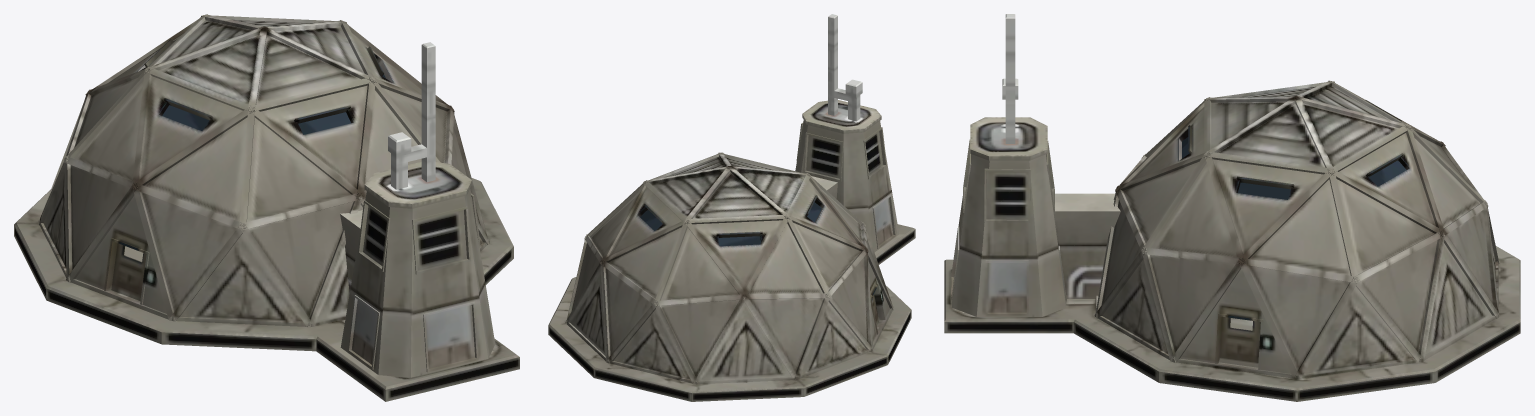
The model's file is geodesicdome_cad.glb.
3 renders of one model, left to right at view 1: azimuth 30°, elevation 25°; view 2: azimuth 150°, elevation 25°; view 3: azimuth 270°, elevation 25°, orthographic. The views are drawn at different scales.
Parts seen in each view (by area): view 1: GeodesicDome; view 2: GeodesicDome; view 3: GeodesicDome.
Boxes of the visible parts, x1,y1,x2,y2 form: GeodesicDome: (14, 14, 519, 401); GeodesicDome: (548, 14, 915, 401); GeodesicDome: (944, 14, 1520, 401).
Bounding box in the file's own units: 14.62 × 10.03 × 17.93.
1 material, 1 textured.
